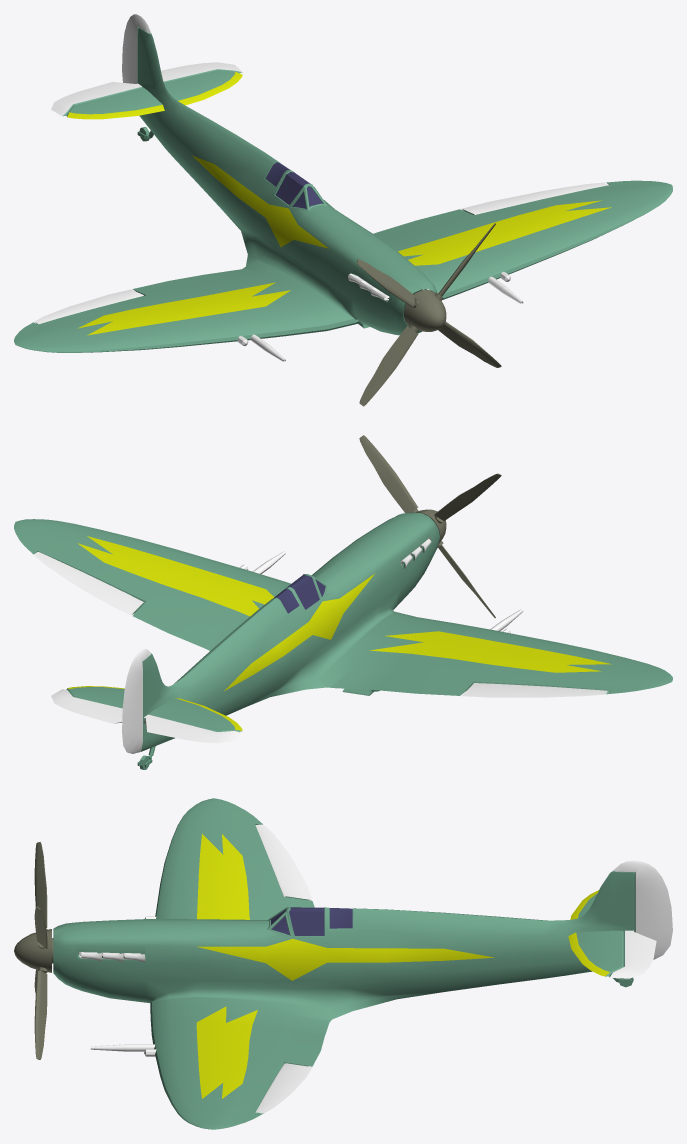
File: WarMachine.fbx
The picture shows the model from 3 angles, top to bottom: view 1: azimuth 30°, elevation 25°; view 2: azimuth 150°, elevation 25°; view 3: azimuth 270°, elevation 25°; orthographic projection. The views are drawn at different scales.
Visible parts, largest first — view 1: War_machine, CQ; view 2: War_machine, CQ; view 3: War_machine, CQ.
Boxes of the visible parts, box(x1,y1,x2,y2) form: War_machine: box(14, 14, 672, 361); CQ: box(357, 223, 501, 406); War_machine: box(14, 512, 672, 769); CQ: box(359, 435, 501, 617); War_machine: box(53, 798, 672, 1129); CQ: box(14, 842, 53, 1059).
Size of the model in its own units: 1016 by 241 by 853.
Materials: 1 (1 with a texture image).
